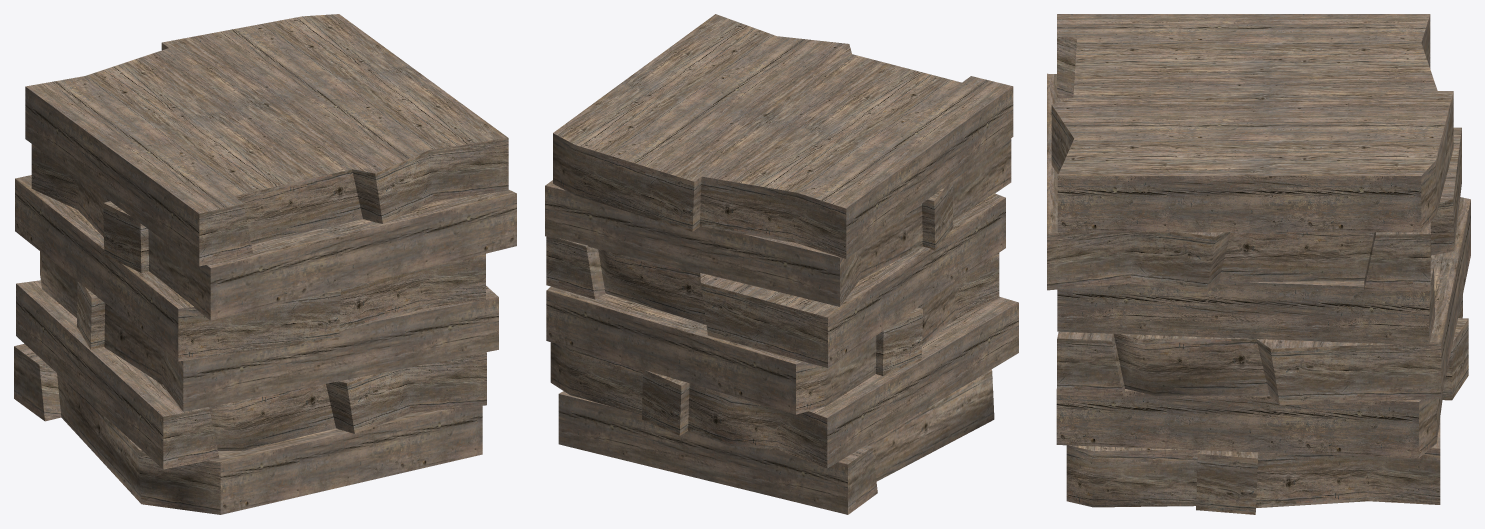
File: Building_LinjgdJz004.glb
3 views of the same model, side by side, from view 1: azimuth 30°, elevation 25°; view 2: azimuth 150°, elevation 25°; view 3: azimuth 270°, elevation 25° (orthographic). The views are drawn at different scales.
Visible parts, largest first — view 1: bmsl_linjgd_jz004; view 2: bmsl_linjgd_jz004; view 3: bmsl_linjgd_jz004.
Boxes of the visible parts, <box> form: bmsl_linjgd_jz004: <box>14,14,516,514</box>; bmsl_linjgd_jz004: <box>545,14,1018,514</box>; bmsl_linjgd_jz004: <box>1047,14,1470,514</box>.
Size of the model in its own units: 1.64 by 1.44 by 1.65.
Materials: 1 (1 with a texture image).
